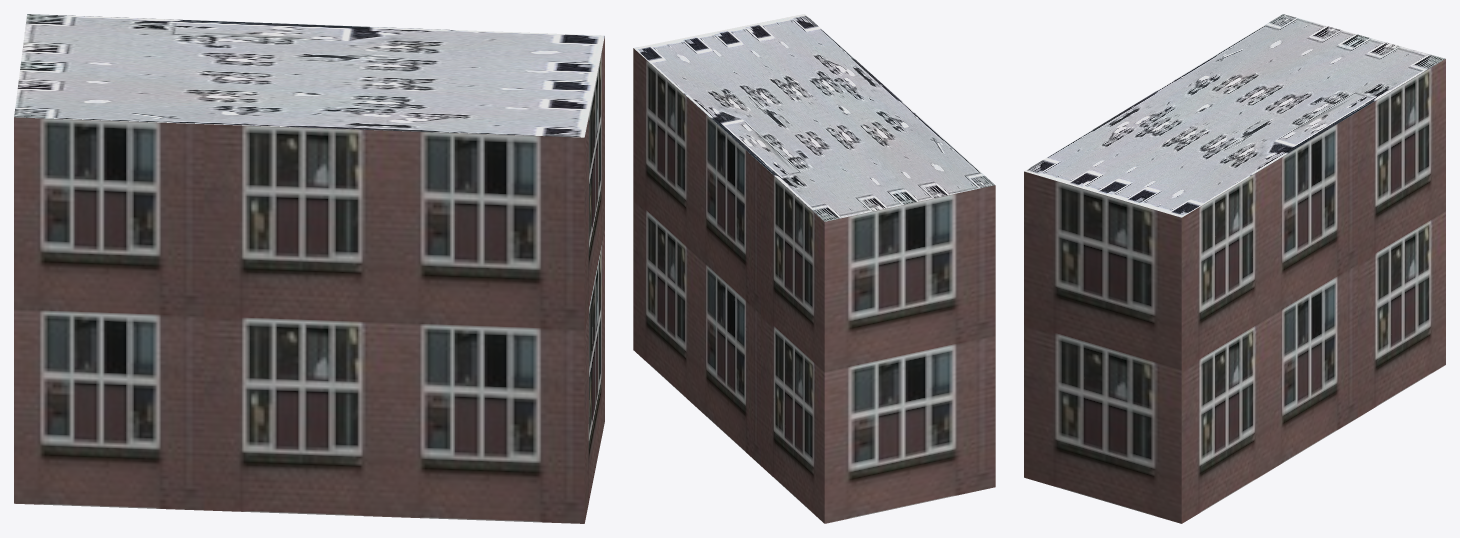
File: ResTex__5036.fbx
3 views of the same model, side by side, from view 1: azimuth 30°, elevation 25°; view 2: azimuth 150°, elevation 25°; view 3: azimuth 270°, elevation 25° (orthographic). The views are drawn at different scales.
Visible parts, largest first — view 1: CityEngineMaterial_12_m, CityEngineMaterial_m; view 2: CityEngineMaterial_12_m, CityEngineMaterial_m; view 3: CityEngineMaterial_12_m, CityEngineMaterial_m.
Boxes of the visible parts, <box> form: CityEngineMaterial_12_m: <box>14,36,604,523</box>; CityEngineMaterial_m: <box>14,14,604,137</box>; CityEngineMaterial_12_m: <box>633,48,995,523</box>; CityEngineMaterial_m: <box>634,14,994,221</box>; CityEngineMaterial_12_m: <box>1024,59,1445,523</box>; CityEngineMaterial_m: <box>1024,14,1445,217</box>.
Size of the model in its own units: 8.56 by 6 by 7.49.
Materials: 2 (2 with a texture image).
